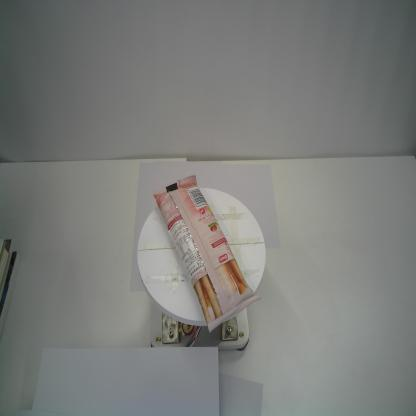Dessert: (150, 174, 262, 336)
